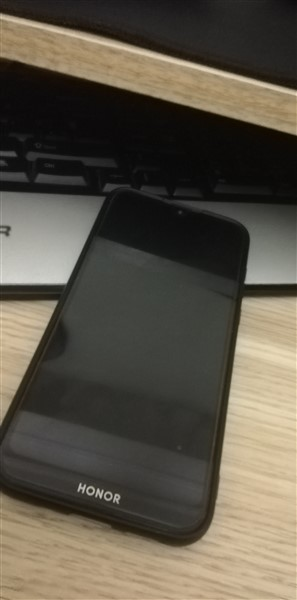telefon: (1, 185, 263, 557)
